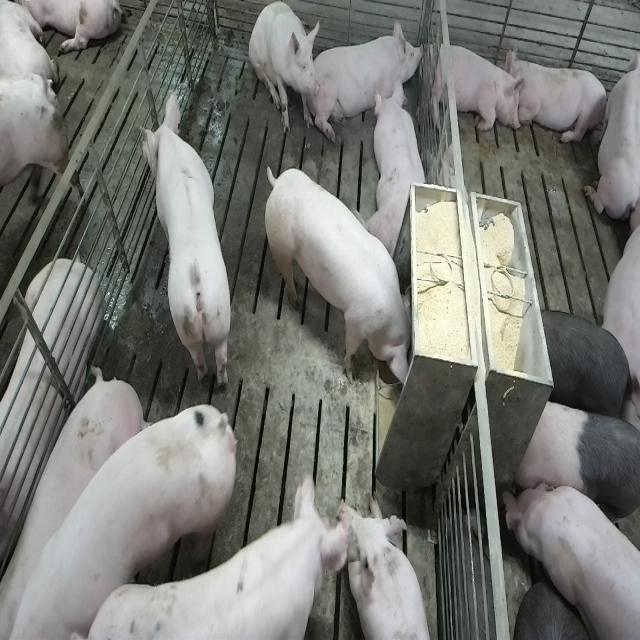Feeding: (269, 165, 421, 392)
Lateral_lying: (0, 257, 102, 613)
Sitting: (249, 2, 320, 136)
Standing: (5, 378, 245, 640), (110, 468, 357, 638), (138, 84, 234, 388), (501, 474, 638, 640), (511, 397, 638, 561), (537, 305, 635, 424)
Sternal_lying: (339, 493, 434, 640), (314, 13, 426, 137), (371, 81, 431, 261), (584, 38, 637, 225), (426, 37, 524, 138), (509, 52, 610, 149)
